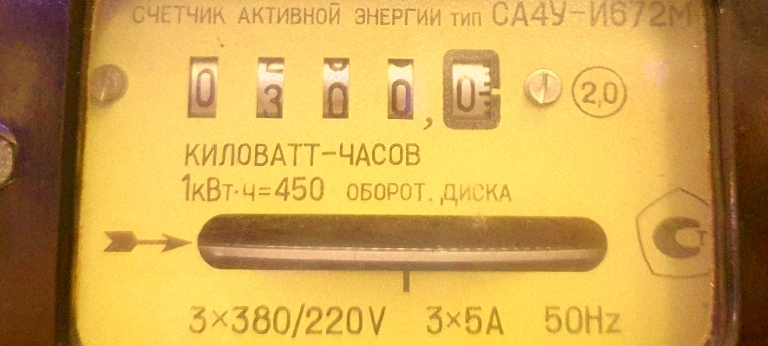0: (192, 63, 216, 110), (388, 75, 413, 119), (452, 71, 477, 114), (324, 78, 348, 119)
3: (259, 80, 283, 119)
screen: (166, 30, 520, 147)
